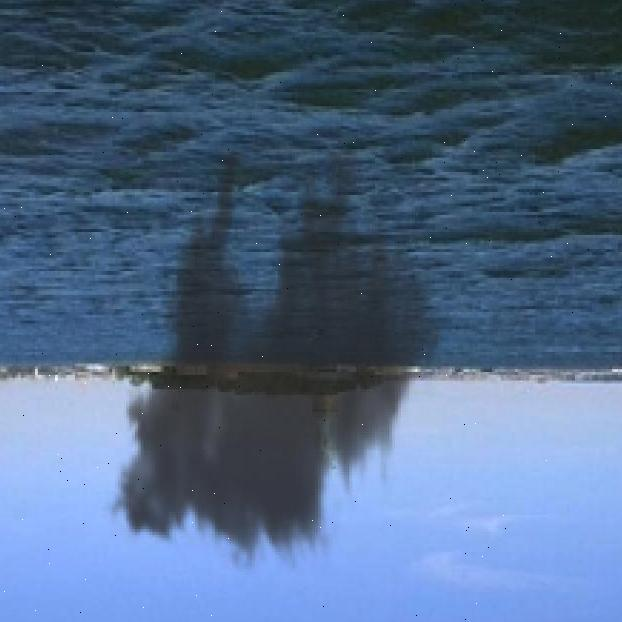smoke: (101, 152, 452, 578)
